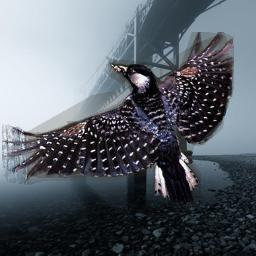Woodpecker: (2, 32, 234, 202)
